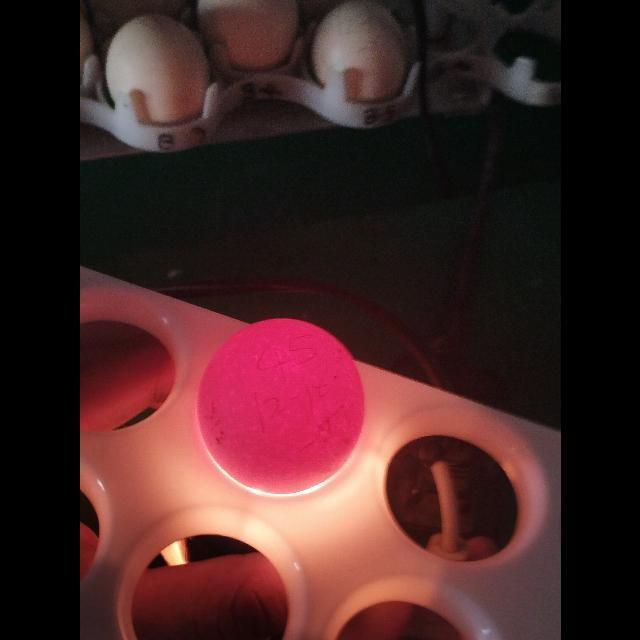Infertile: (195, 314, 368, 496)
